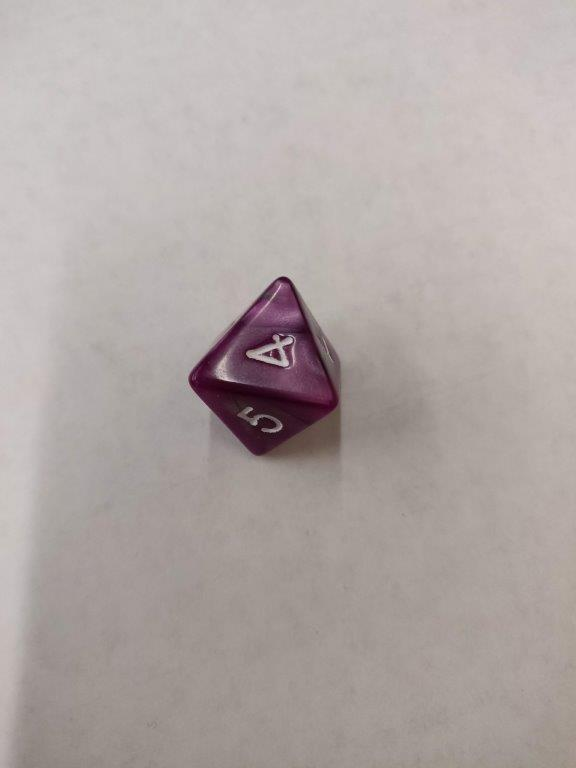d8-4: (188, 276, 343, 454)
